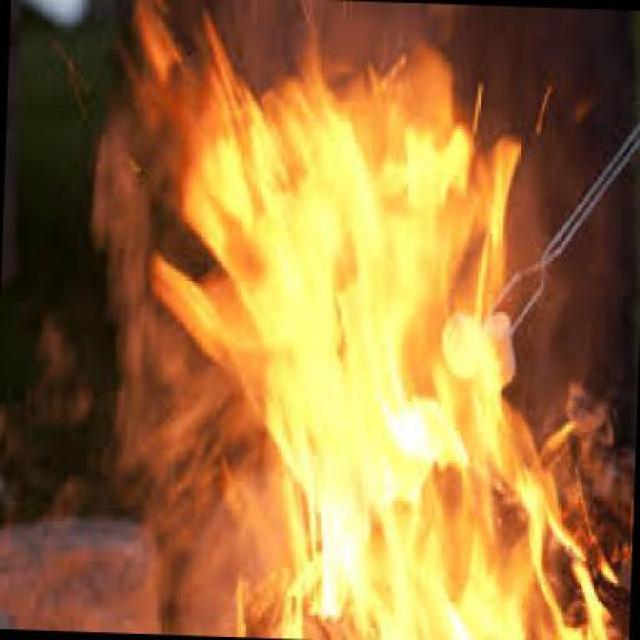Fire: (157, 52, 548, 628)
